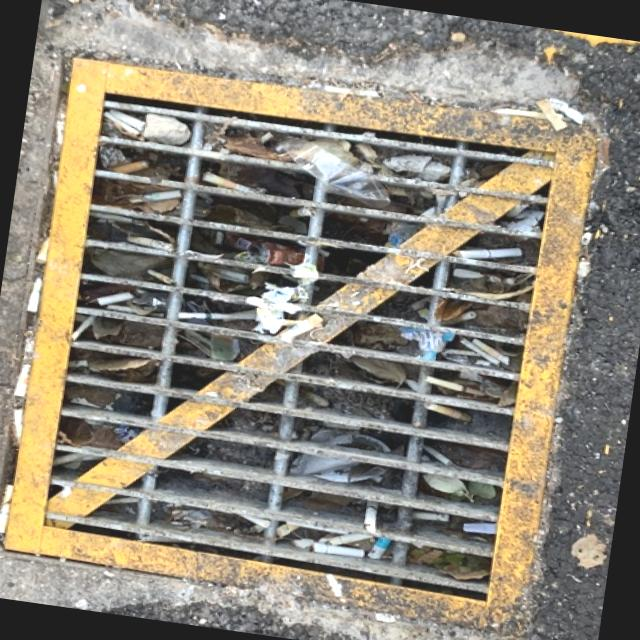drain_area: (306, 209, 388, 304), (155, 362, 233, 417)
drain_full: (37, 93, 560, 607)
